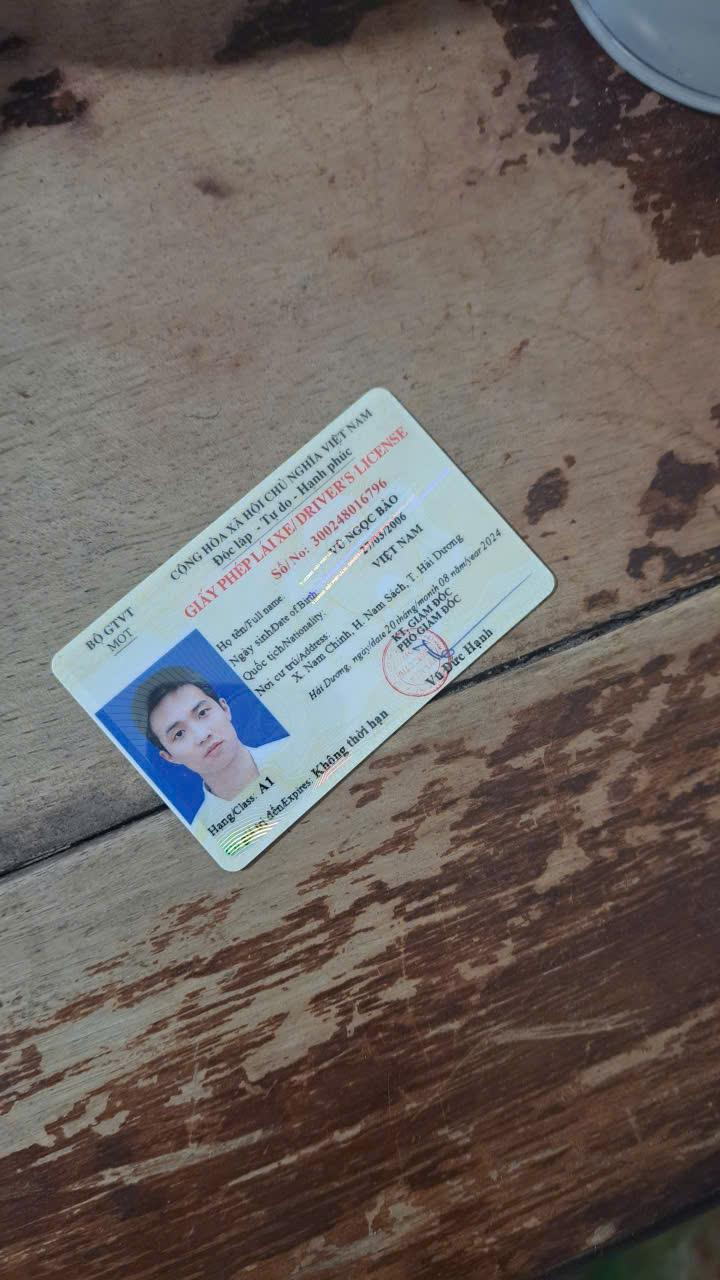gplx: (40, 375, 565, 882)
